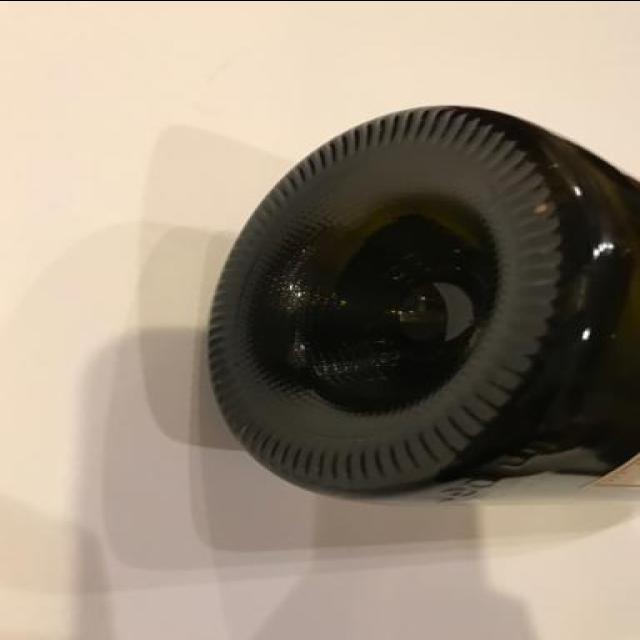glass: (203, 100, 640, 508)
